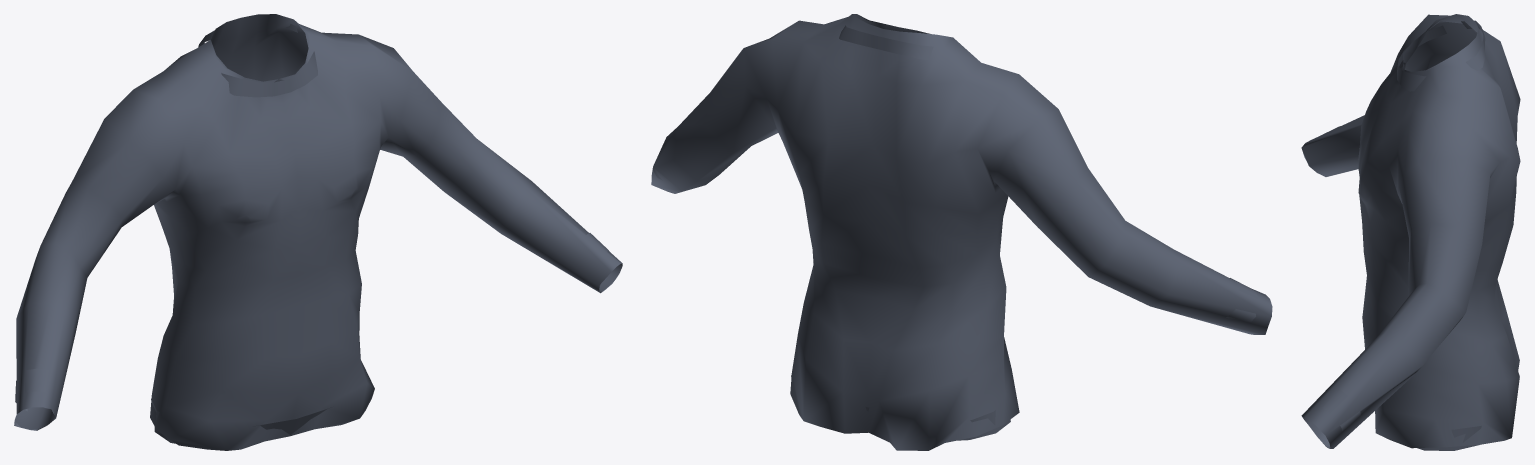
Rendered from sweater.glb.
The picture shows the model from 3 angles, left to right: view 1: azimuth 30°, elevation 25°; view 2: azimuth 150°, elevation 25°; view 3: azimuth 270°, elevation 25°; orthographic projection. The views are drawn at different scales.
Parts seen in each view (by area): view 1: sweater; view 2: sweater; view 3: sweater.
Boxes of the visible parts, x1,y1,x2,y2 form: sweater: [14, 14, 622, 450]; sweater: [651, 14, 1272, 450]; sweater: [1301, 14, 1520, 450].
Bounding box in the file's own units: 1.07 × 0.6622 × 0.3418.
